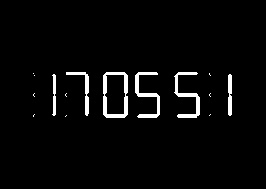five: (173, 71, 201, 118), (135, 72, 161, 118)
one: (226, 73, 233, 116), (51, 73, 57, 116)
seven: (65, 71, 90, 115)
zero: (102, 71, 128, 117)
